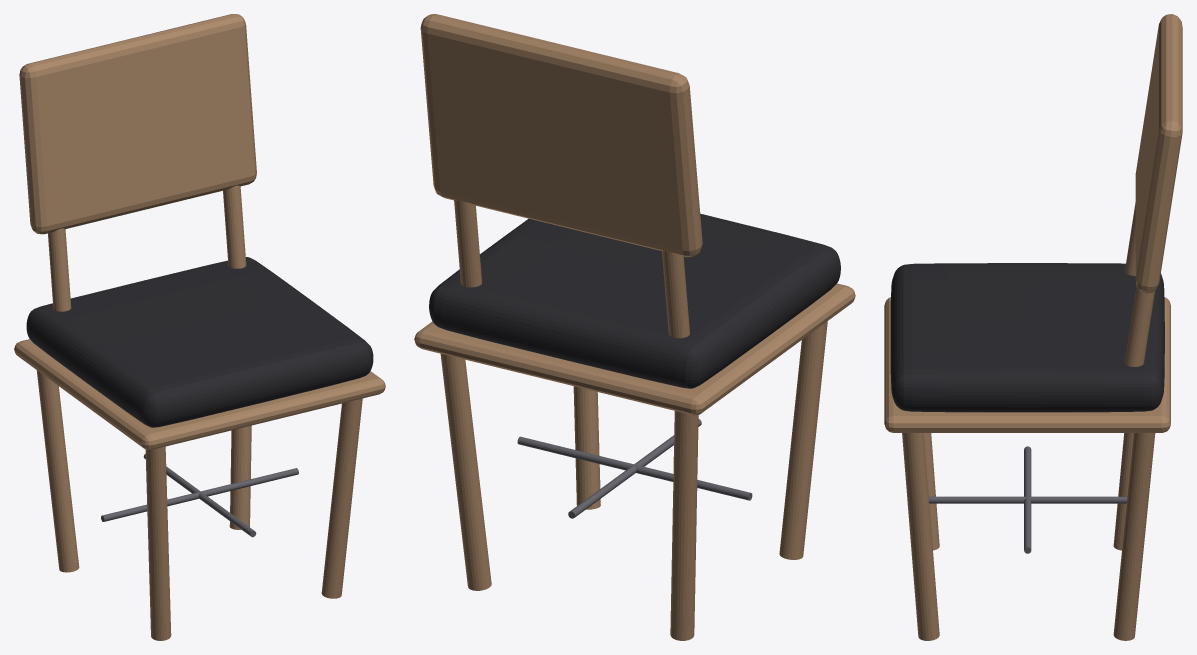
File: chair.glb
3 renders of one model, left to right at view 1: azimuth 30°, elevation 25°; view 2: azimuth 150°, elevation 25°; view 3: azimuth 270°, elevation 25°, orthographic. The views are drawn at different scales.
Visible parts, largest first — view 1: Backrest_Panel, Seat_Cushion, Seat_Pan, Cylinder.003, Cylinder.004, Cylinder.002, Cylinder.005, Cylinder.001, Cylinder, Cylinder.006, Cylinder.007; view 2: Backrest_Panel, Seat_Cushion, Seat_Pan, Cylinder.005, Cylinder.002, Cylinder.004, Cylinder.003, Cylinder, Cylinder.001, Cylinder.006, Cylinder.007; view 3: Seat_Cushion, Backrest_Panel, Seat_Pan, Cylinder.005, Cylinder.003, Cylinder.007, Cylinder.001, Cylinder.004, Cylinder.002, Cylinder.006, Cylinder.
Boxes of the visible parts, <box> form: Backrest_Panel: <box>19,14,256,234</box>; Seat_Cushion: <box>26,257,373,427</box>; Seat_Pan: <box>14,339,385,449</box>; Cylinder.003: <box>321,398,362,598</box>; Cylinder.004: <box>36,370,79,572</box>; Cylinder.002: <box>145,446,171,640</box>; Cylinder.005: <box>229,425,251,529</box>; Cylinder.001: <box>223,185,246,268</box>; Cylinder: <box>48,228,71,311</box>; Cylinder.006: <box>101,468,298,521</box>; Cylinder.007: <box>143,453,256,537</box>; Backrest_Panel: <box>420,14,702,257</box>; Seat_Cushion: <box>429,213,840,388</box>; Seat_Pan: <box>414,283,855,415</box>; Cylinder.005: <box>440,354,491,590</box>; Cylinder.002: <box>779,321,827,559</box>; Cylinder.004: <box>670,411,698,640</box>; Cylinder.003: <box>573,386,600,509</box>; Cylinder: <box>662,250,689,338</box>; Cylinder.001: <box>454,200,482,287</box>; Cylinder.006: <box>517,436,752,500</box>; Cylinder.007: <box>568,419,701,518</box>; Seat_Cushion: <box>890,263,1164,412</box>; Backrest_Panel: <box>1135,14,1182,293</box>; Seat_Pan: <box>884,297,1170,432</box>; Cylinder.005: <box>1113,433,1155,640</box>; Cylinder.003: <box>902,433,939,640</box>; Cylinder.007: <box>928,496,1127,503</box>; Cylinder.001: <box>1124,287,1154,366</box>; Cylinder.004: <box>1113,433,1133,550</box>; Cylinder.002: <box>923,433,939,550</box>; Cylinder.006: <box>1024,446,1031,553</box>; Cylinder: <box>1124,202,1135,275</box>.
Bounding box in the file's own units: 0.5 × 0.9692 × 0.4993.
